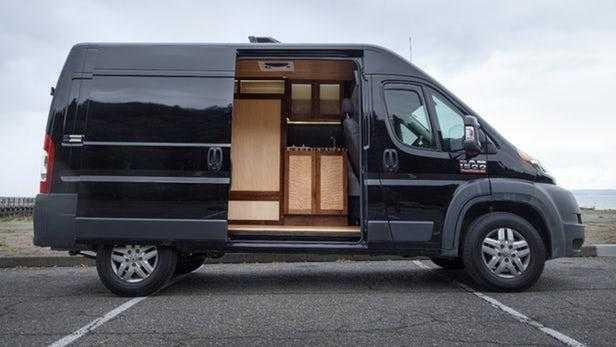car: (11, 33, 572, 294)
